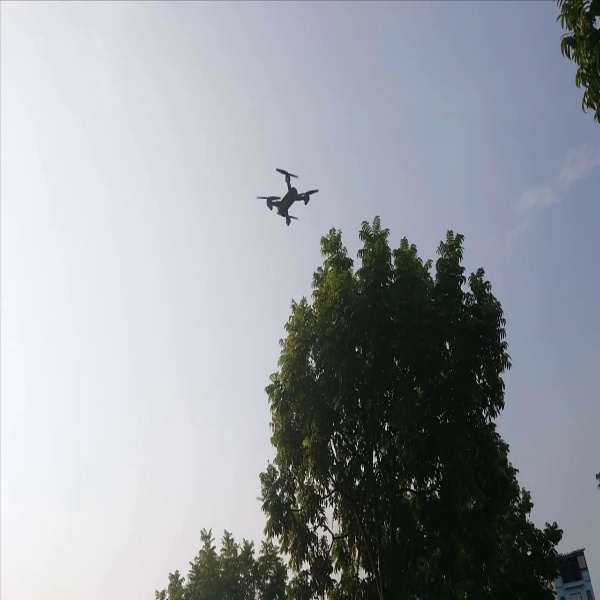drone: (252, 162, 324, 231)
